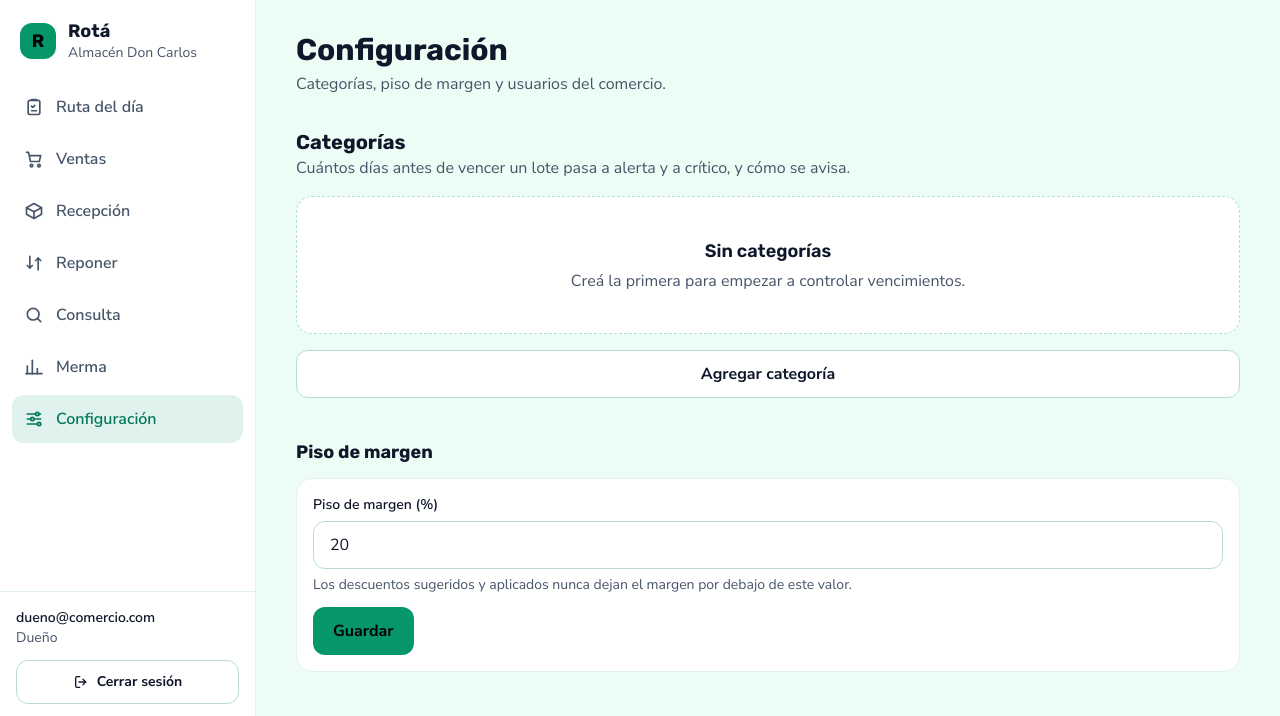
Piso de margen (HU-19) › el dueño lo cambia desde Configuración
Replace the text in the field labelled "Piso de margen (%)" with "30" at [768, 545], box 313,521 -> 1223,569
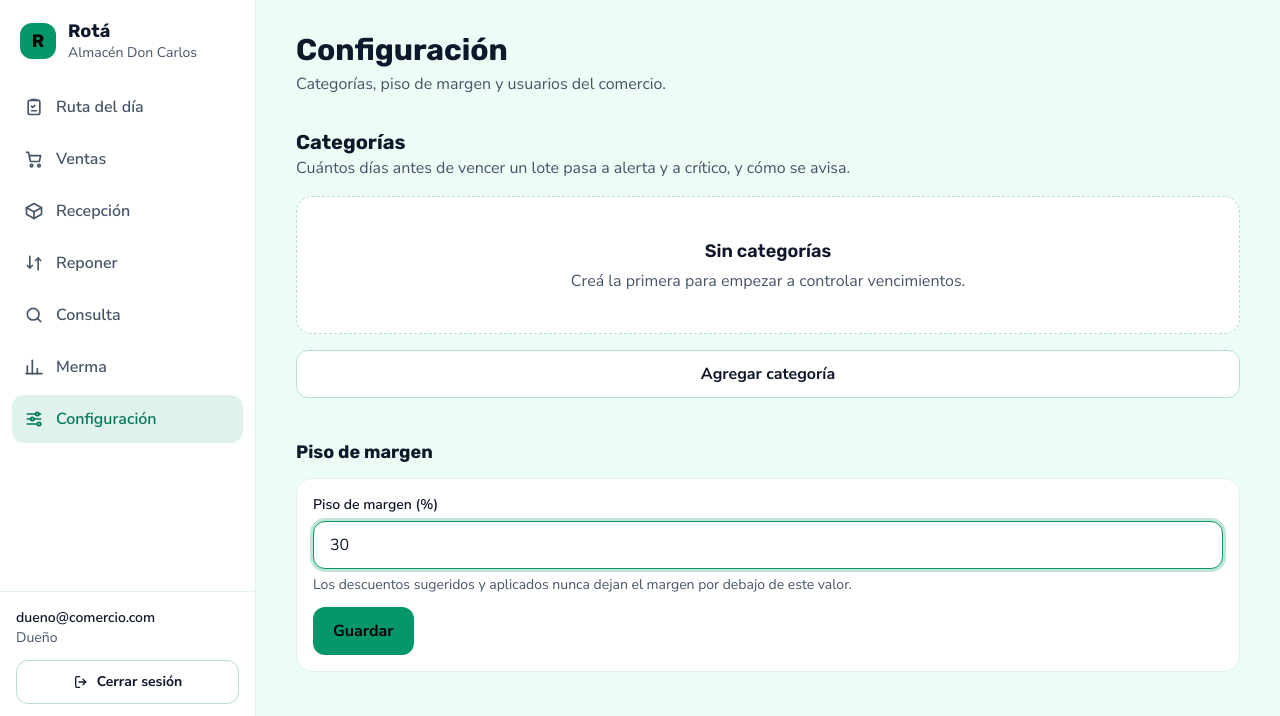
Click the button "Guardar".
click(363, 631)  # box 313,607 -> 414,655
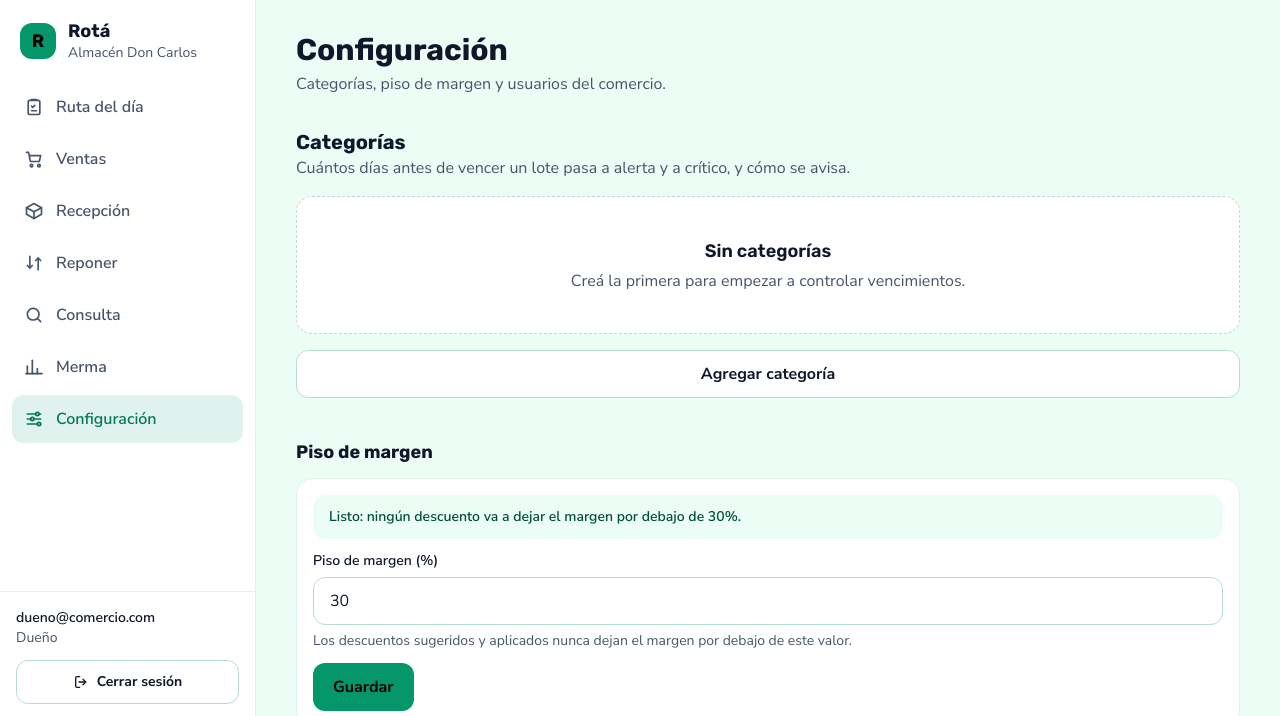
Result: the text "Listo: ningún descuento va a dejar el margen por debajo de 30%." is shown at 313,495 -> 1223,539
